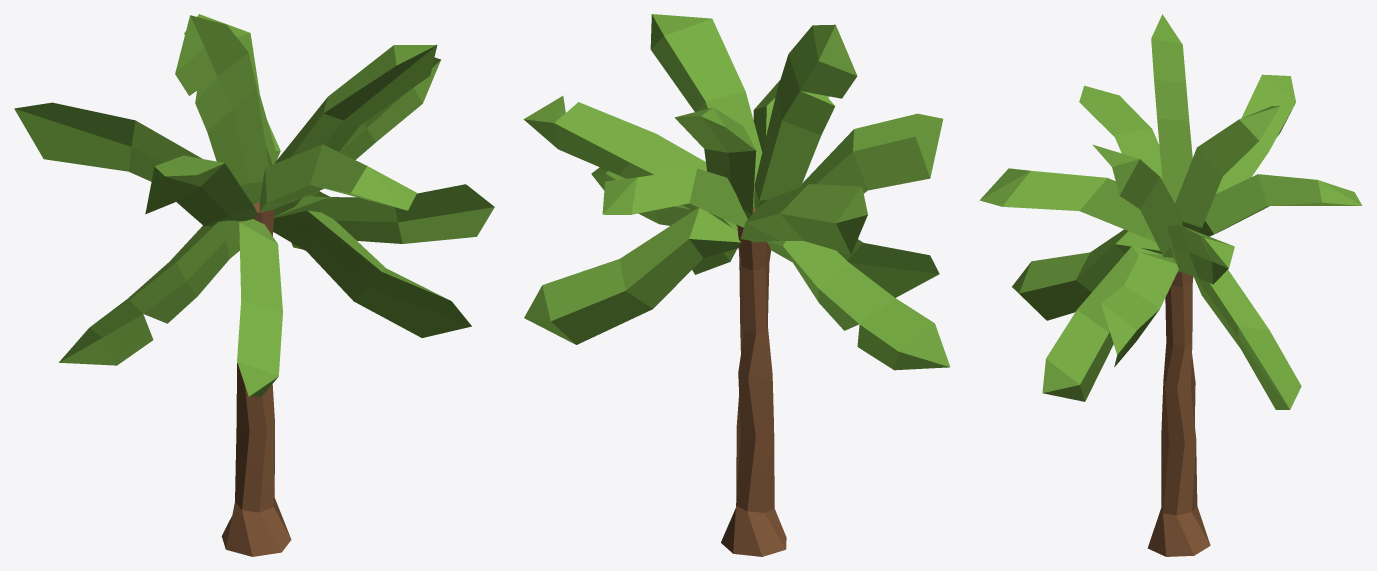
Rendered from nature_palm-round.fbx.
3 renders of one model, left to right at view 1: azimuth 30°, elevation 25°; view 2: azimuth 150°, elevation 25°; view 3: azimuth 270°, elevation 25°, orthographic. The views are drawn at different scales.
Parts seen in each view (by area): view 1: nature_palm_round; view 2: nature_palm_round; view 3: nature_palm_round.
Part boxes in pixels (x1,y1,x2,y2): nature_palm_round: (14,14,494,556); nature_palm_round: (523,14,950,556); nature_palm_round: (979,14,1362,556).
Bounding box in the file's own units: 156 × 199 × 139.
